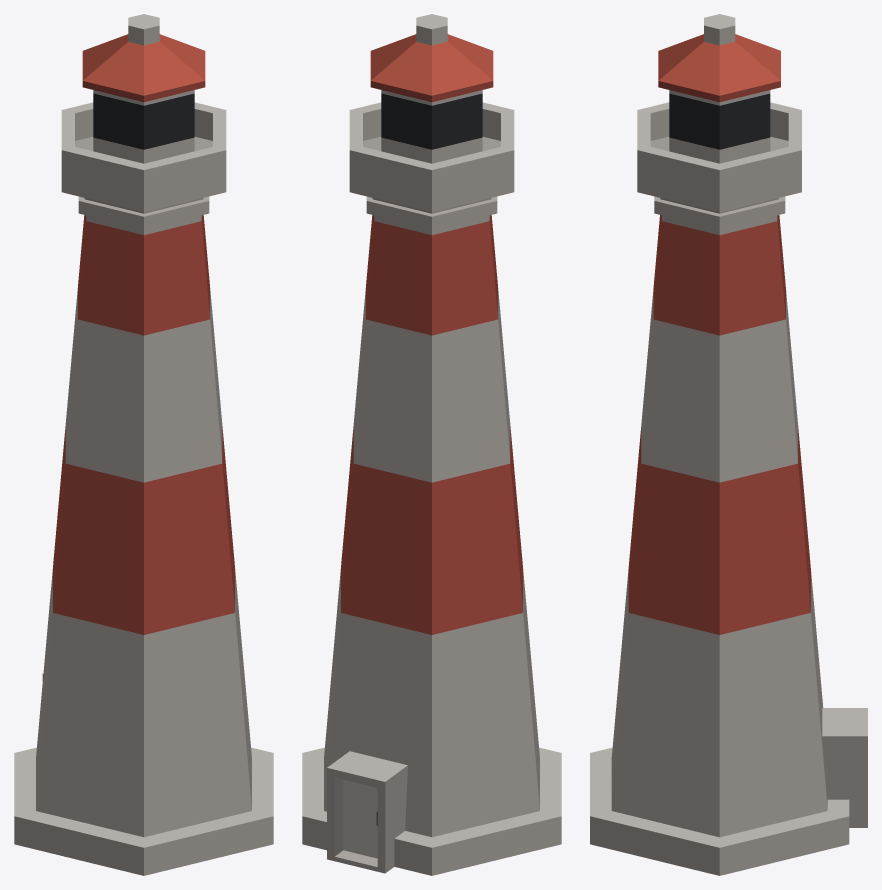
Rendered from SA_Bld_Lighthouse_01.gltf.
The picture shows the model from 3 angles, left to right: view 1: azimuth 30°, elevation 25°; view 2: azimuth 150°, elevation 25°; view 3: azimuth 270°, elevation 25°; orthographic projection.
Visible parts, largest first — view 1: SA_Bld_Lighthouse_01; view 2: SA_Bld_Lighthouse_01; view 3: SA_Bld_Lighthouse_01.
Part boxes in pixels (x1,y1,x2,y2): SA_Bld_Lighthouse_01: [14, 14, 273, 875]; SA_Bld_Lighthouse_01: [302, 14, 561, 875]; SA_Bld_Lighthouse_01: [590, 14, 867, 875].
Bounding box in the file's own units: 12.96 × 37.81 × 12.03.
1 material, 1 textured.
